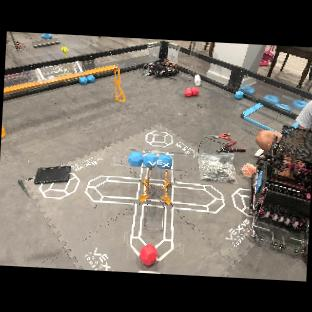Robot: (252, 122, 312, 245)
V5_BLUE: (85, 75, 99, 84), (78, 75, 89, 85), (233, 89, 244, 99)
V5_RED: (135, 241, 163, 267), (191, 85, 202, 97), (185, 87, 192, 97)
blueingoal: (156, 151, 176, 170), (127, 149, 142, 169), (141, 151, 158, 168)
